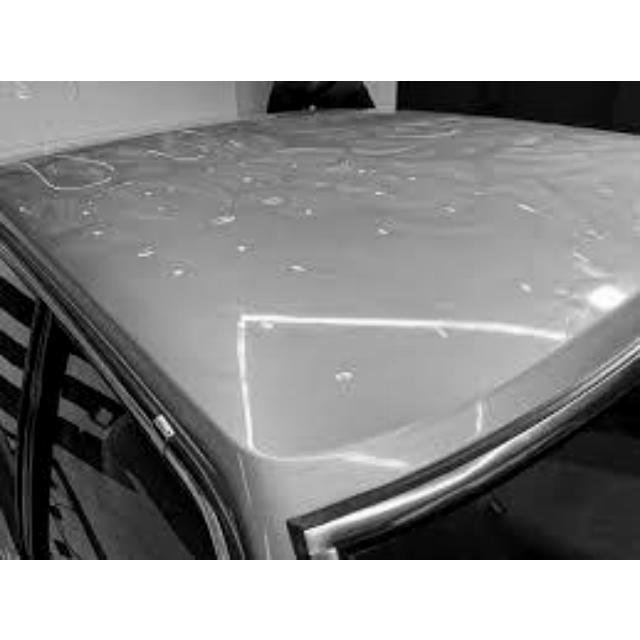bonnet-dent: (1, 110, 324, 401), (321, 111, 637, 246)
